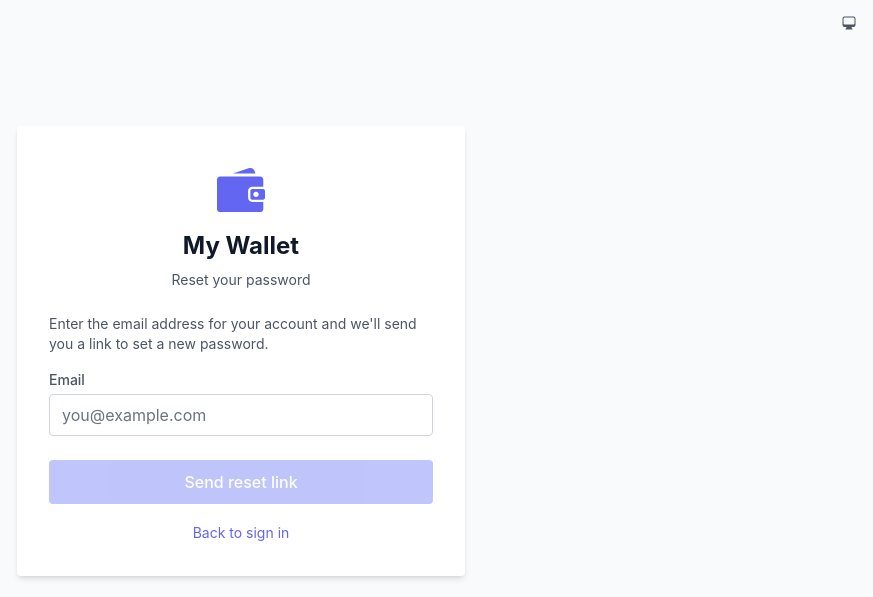
Test: ForgotPassword › shows a neutral confirmation after submitting
In the field labelled "Email": (241, 415) [49,394,433,436], type "user@example.com"
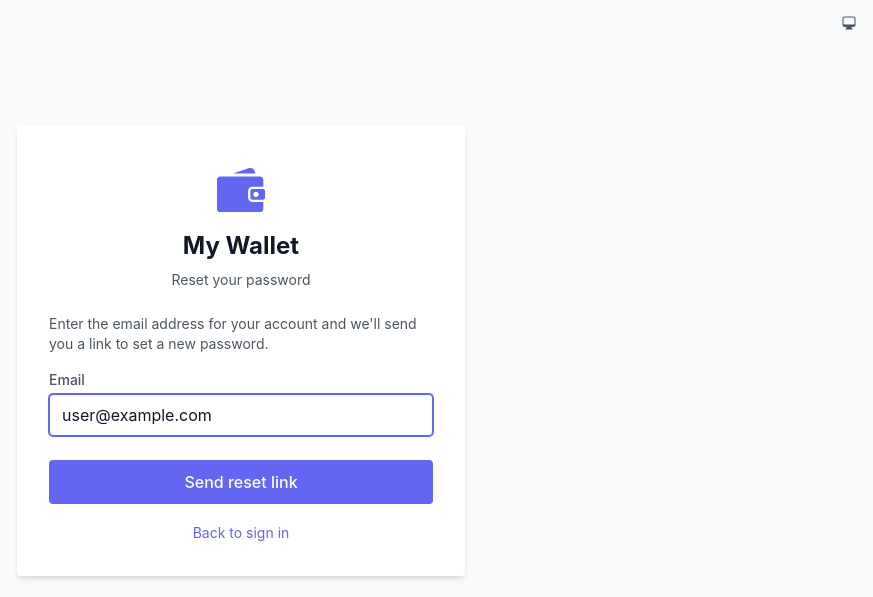
Click the button "Send reset link": click(241, 482) [49,460,433,504]
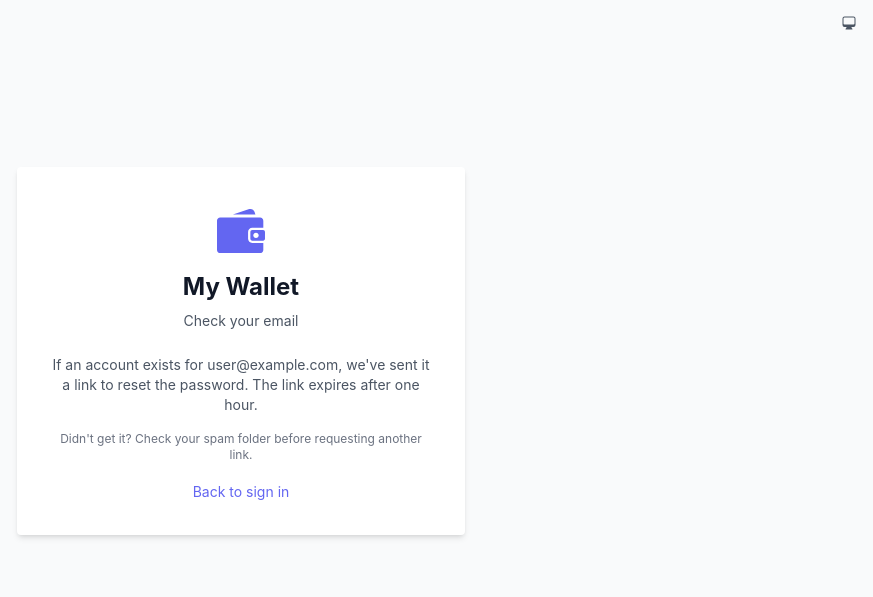
Expected: the text "If an account exists for user@example.com" is shown, [49,355,433,415]
